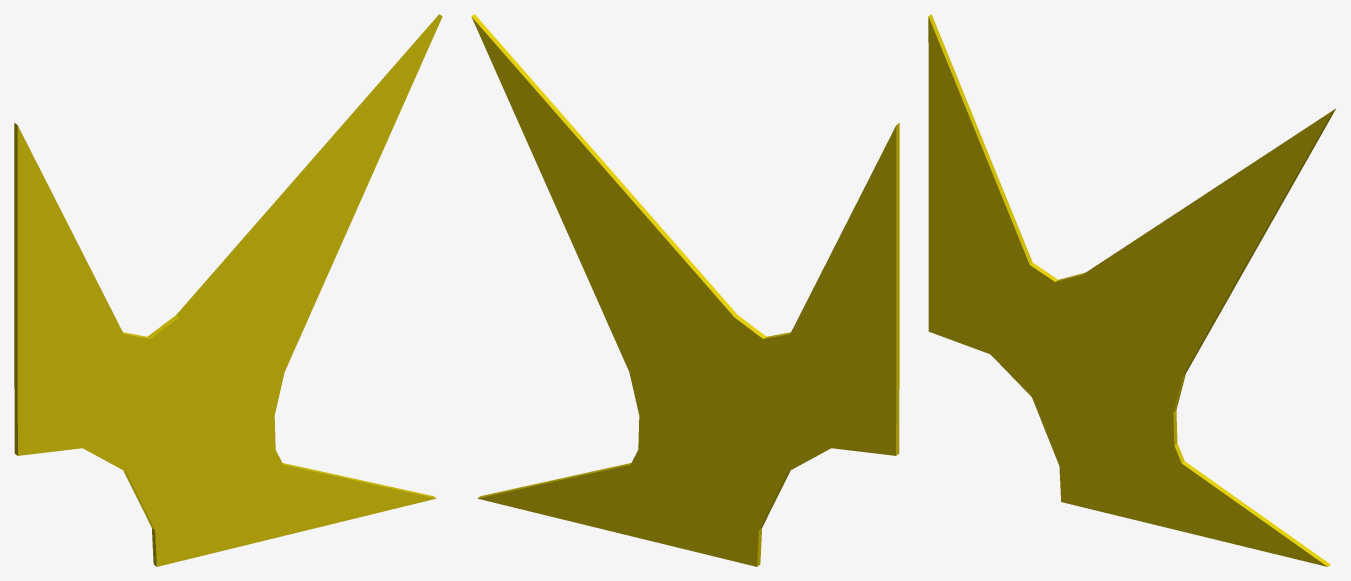
Rendered from PingEffect.fbx.
3 renders of one model, left to right at view 1: azimuth 30°, elevation 25°; view 2: azimuth 150°, elevation 25°; view 3: azimuth 330°, elevation 25°, orthographic. The views are drawn at different scales.
Parts seen in each view (by area): view 1: Plane; view 2: Plane; view 3: Plane.
Boxes of the visible parts, bbox=[...] form: Plane: bbox=[14, 14, 442, 566]; Plane: bbox=[471, 14, 899, 566]; Plane: bbox=[928, 14, 1335, 566].
Bounding box in the file's own units: 1440 × 1557 × 19.44.
